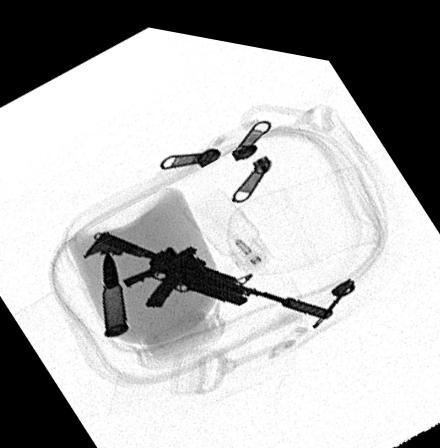Bullet: (100, 247, 129, 332)
Gun: (79, 226, 332, 308)
